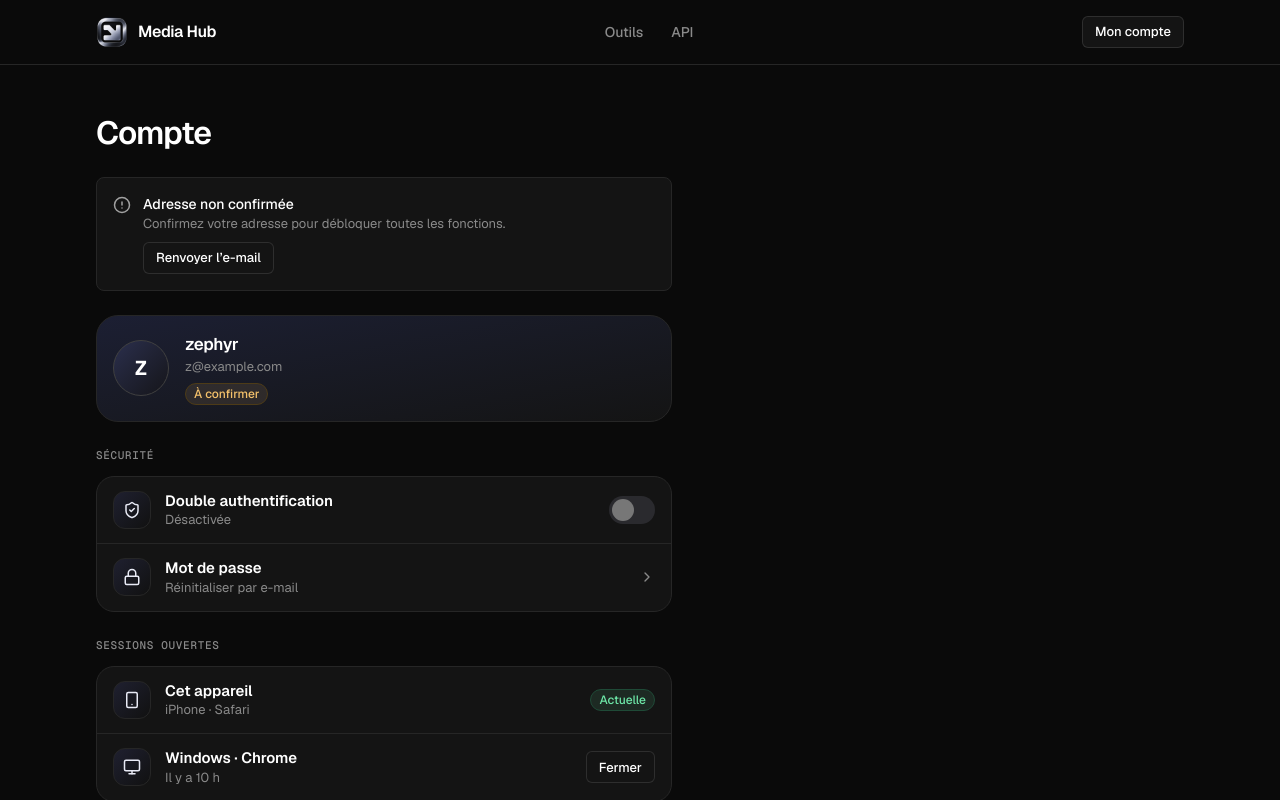
Test case: page Compte › propose de renvoyer l’e-mail quand l’adresse n’est pas confirmée
This screenshot has width=1280, height=800.
Click the button "Renvoyer l’e-mail" at (208, 258), box [143,242,274,274]
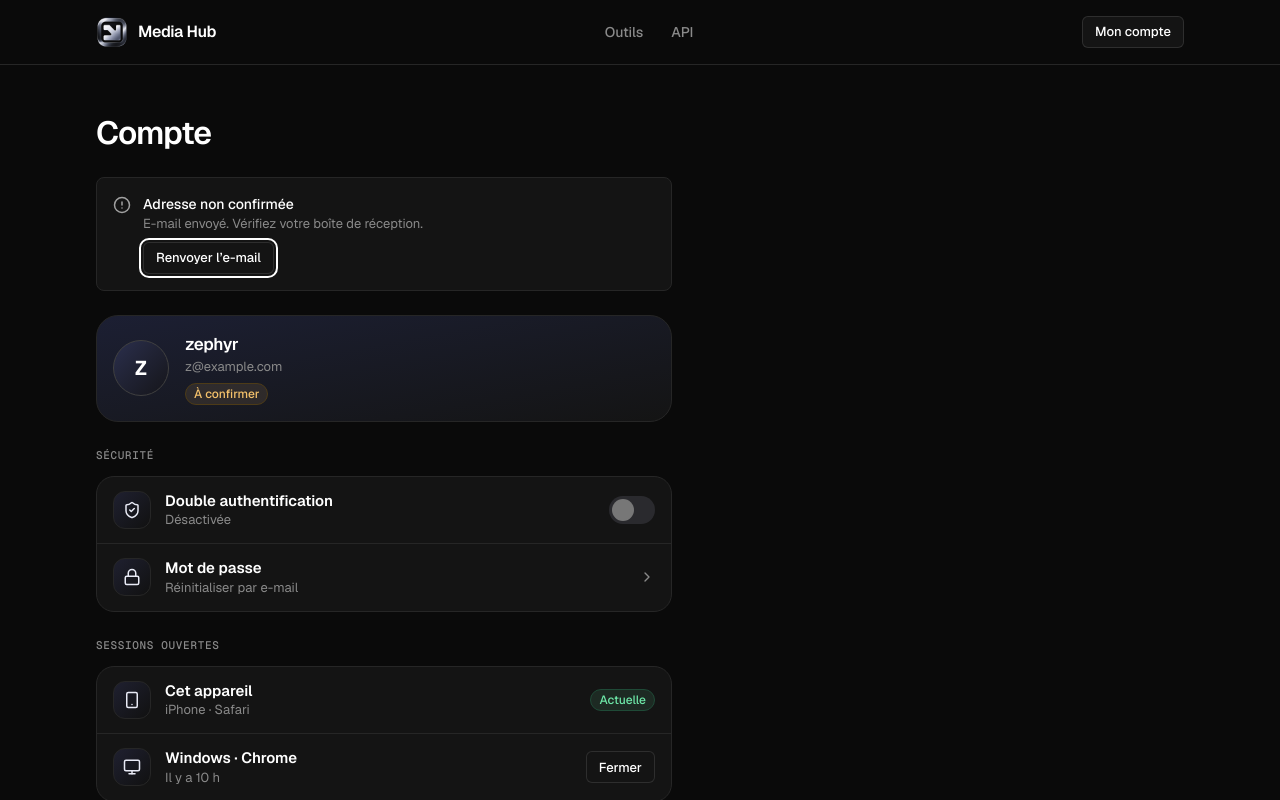
Result: the text "E-mail envoyé. Vérifiez votre boîte de réception." is shown at [143,214,423,234]
